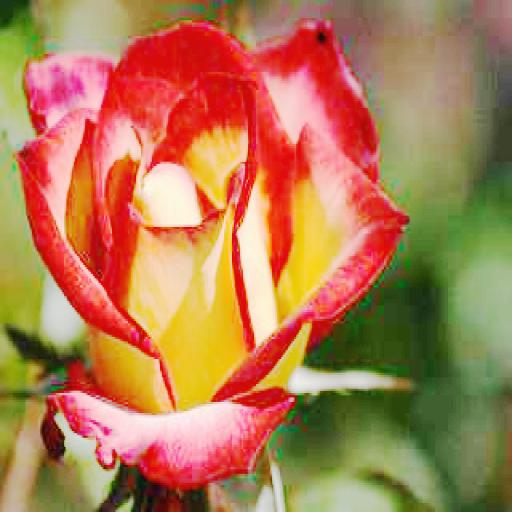rose: (22, 22, 397, 465)
